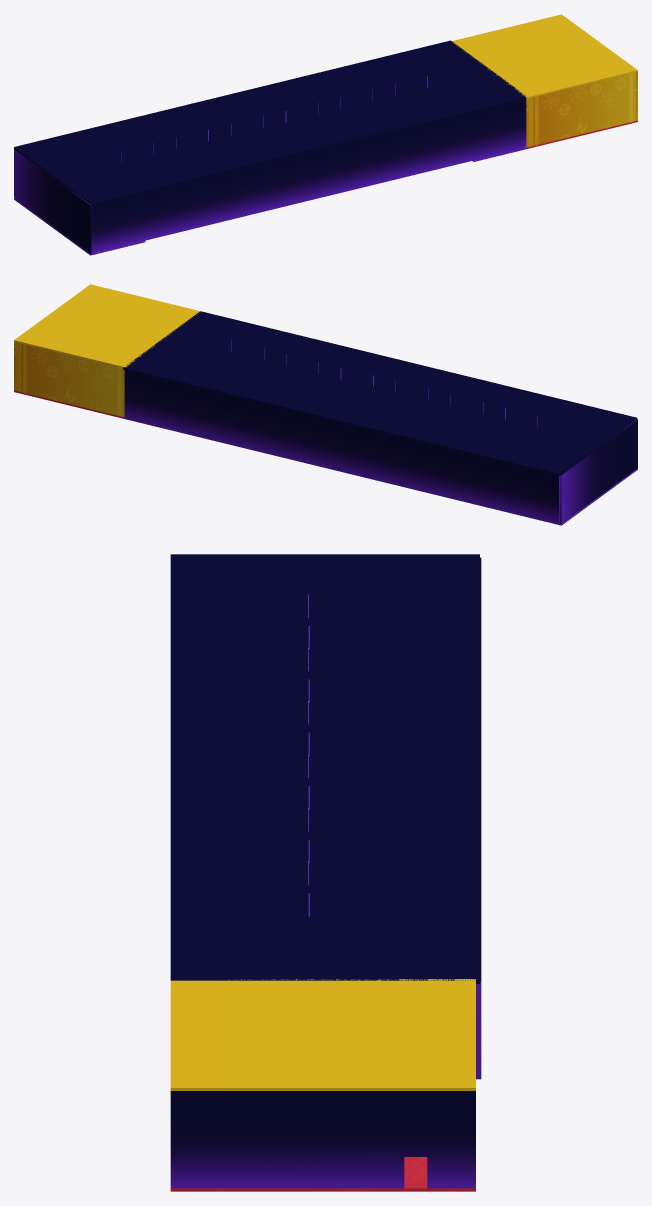
File: Stage2.gltf
The picture shows the model from 3 angles, top to bottom: view 1: azimuth 30°, elevation 25°; view 2: azimuth 150°, elevation 25°; view 3: azimuth 270°, elevation 25°; orthographic projection. The views are drawn at different scales.
Parts seen in each view (by area): view 1: StudioCeiling.001, Cube.148, WelcomeCeiling.001, Cube.183, Cube.145; view 2: StudioCeiling.001, Cube.186, WelcomeCeiling.001, Cube.187, Cube.145; view 3: StudioCeiling.001, WelcomeCeiling.001, Cube.120, Cube.186, Cube.164.
Boxes of the visible parts, x1=… form: StudioCeiling.001: x1=14, y1=40, x2=526, y2=204; Cube.148: x1=91, y1=99, x2=526, y2=253; WelcomeCeiling.001: x1=452, y1=14, x2=637, y2=98; Cube.183: x1=528, y1=72, x2=635, y2=146; Cube.145: x1=14, y1=149, x2=91, y2=253; StudioCeiling.001: x1=123, y1=311, x2=637, y2=475; Cube.186: x1=124, y1=370, x2=560, y2=524; WelcomeCeiling.001: x1=14, y1=284, x2=201, y2=368; Cube.187: x1=16, y1=342, x2=123, y2=416; Cube.145: x1=560, y1=419, x2=637, y2=523; StudioCeiling.001: x1=170, y1=554, x2=479, y2=983; WelcomeCeiling.001: x1=170, y1=979, x2=475, y2=1090; Cube.120: x1=170, y1=1091, x2=475, y2=1188; Cube.186: x1=476, y1=557, x2=481, y2=1079; Cube.164: x1=377, y1=1157, x2=475, y2=1191.
Bounding box in the file's own units: 139 × 15.44 × 34.23.
